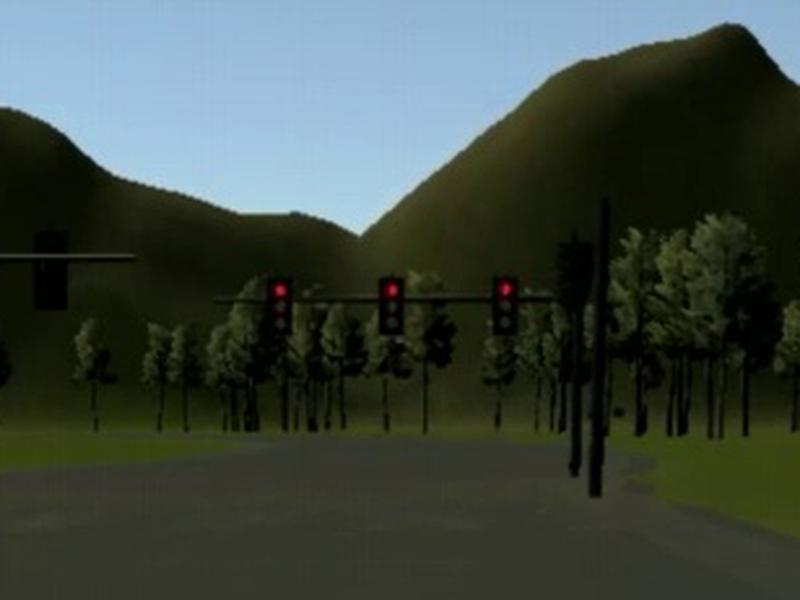Red: (492, 274, 518, 338), (377, 274, 403, 335), (267, 279, 295, 335)
